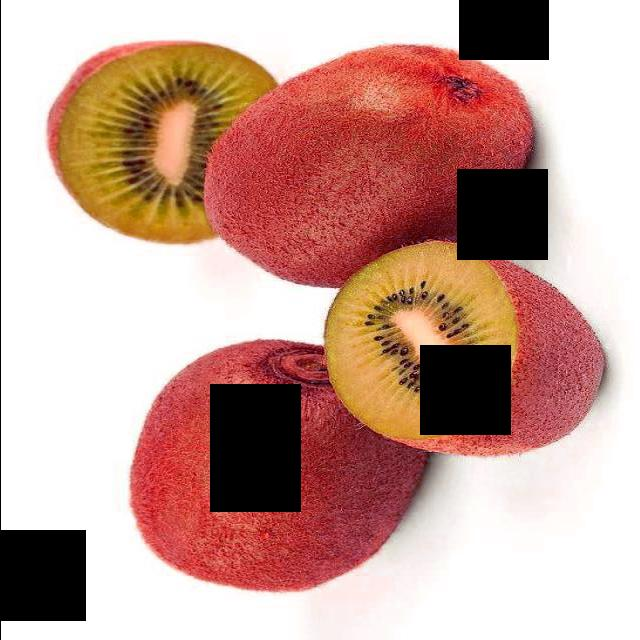kiwi: (199, 35, 529, 290), (125, 322, 428, 595)
